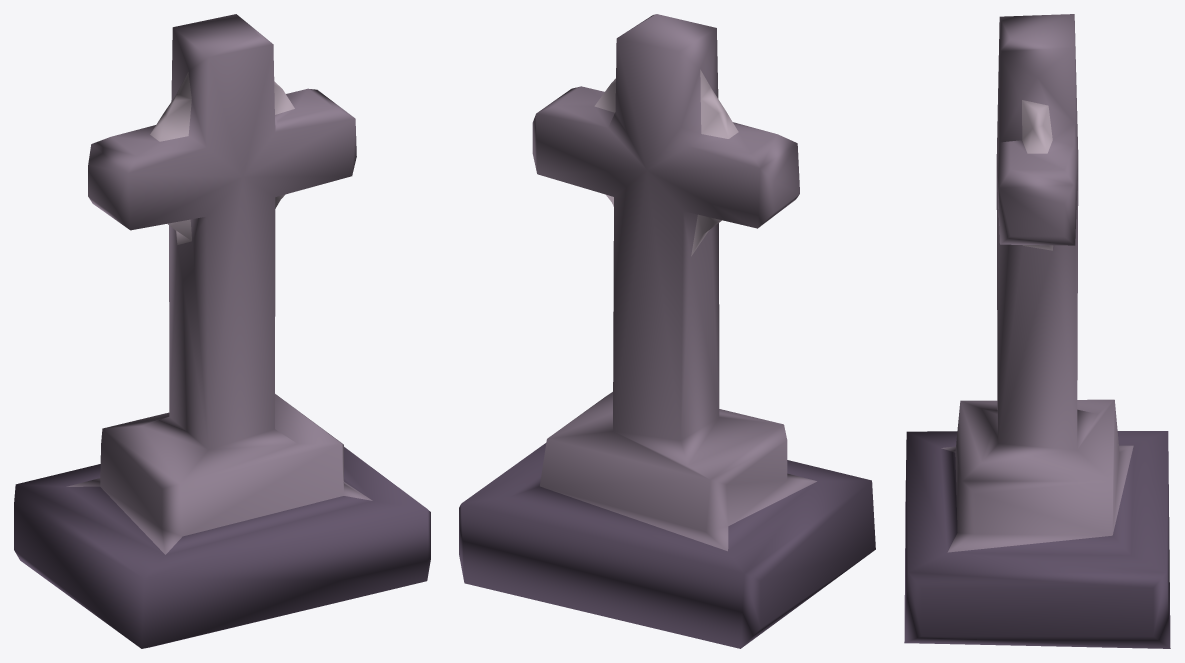
The model's file is grave_b.glb.
3 views of the same model, side by side, from view 1: azimuth 30°, elevation 25°; view 2: azimuth 150°, elevation 25°; view 3: azimuth 270°, elevation 25° (orthographic). The views are drawn at different scales.
Parts seen in each view (by area): view 1: grave_b; view 2: grave_b; view 3: grave_b.
Boxes of the visible parts, <box> form: grave_b: <box>14,14,430,648</box>; grave_b: <box>459,14,875,648</box>; grave_b: <box>904,14,1170,648</box>.
Bounding box in the file's own units: 0.8 × 1.37 × 0.5972.
